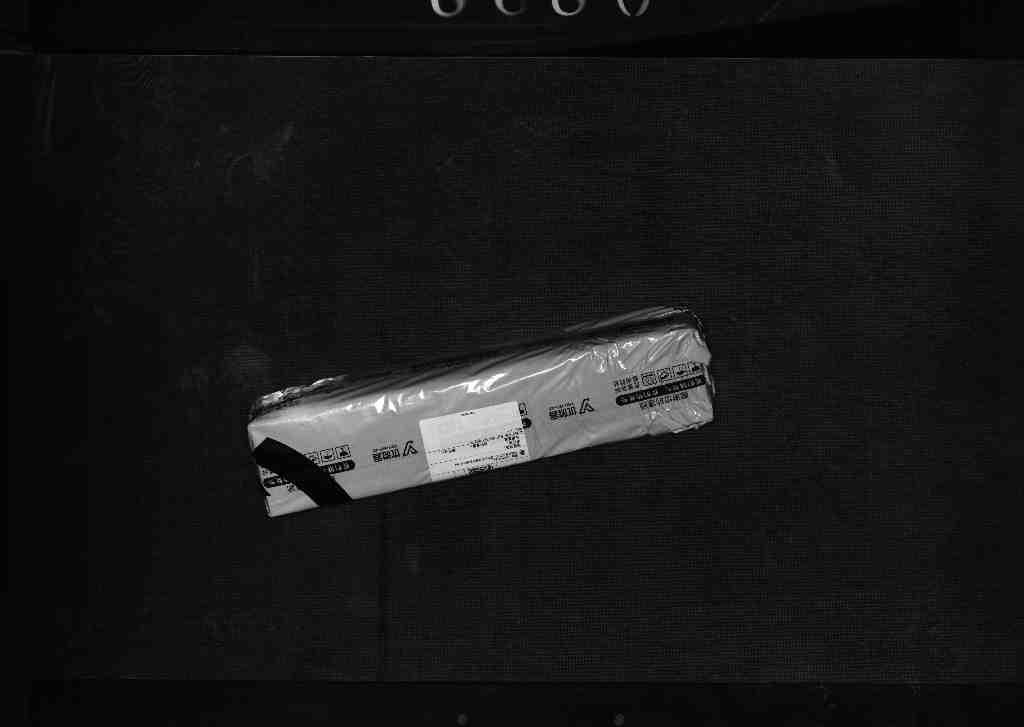box: (247, 302, 720, 521)
